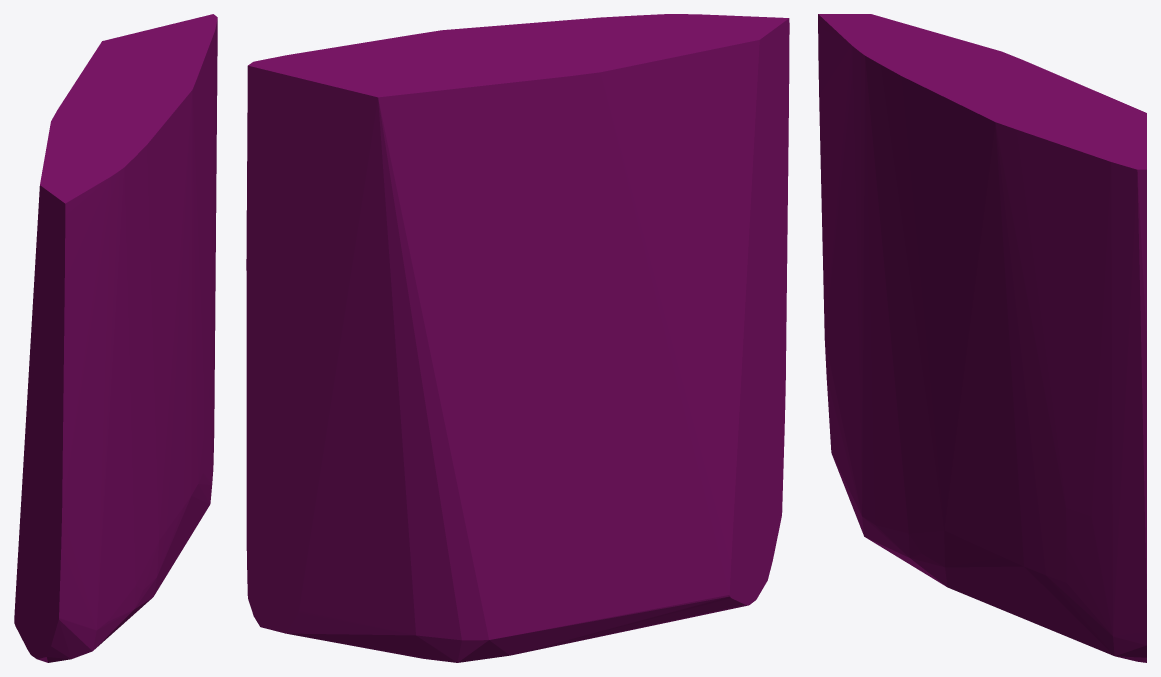
The model's file is right-shoulder-pitch-0_part_89.obj.
The picture shows the model from 3 angles, left to right: view 1: azimuth 30°, elevation 25°; view 2: azimuth 150°, elevation 25°; view 3: azimuth 270°, elevation 25°; orthographic projection. The views are drawn at different scales.
Bounding box in the file's own units: 0.0153 × 0.0228 × 0.0136.
